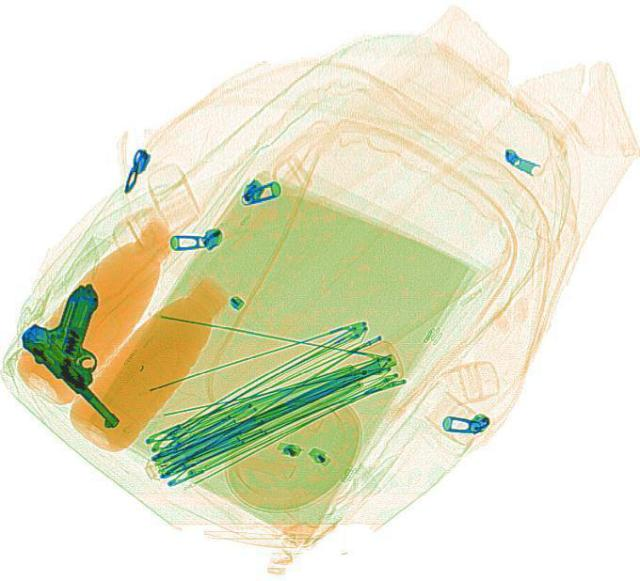Gun: (7, 279, 185, 428)
